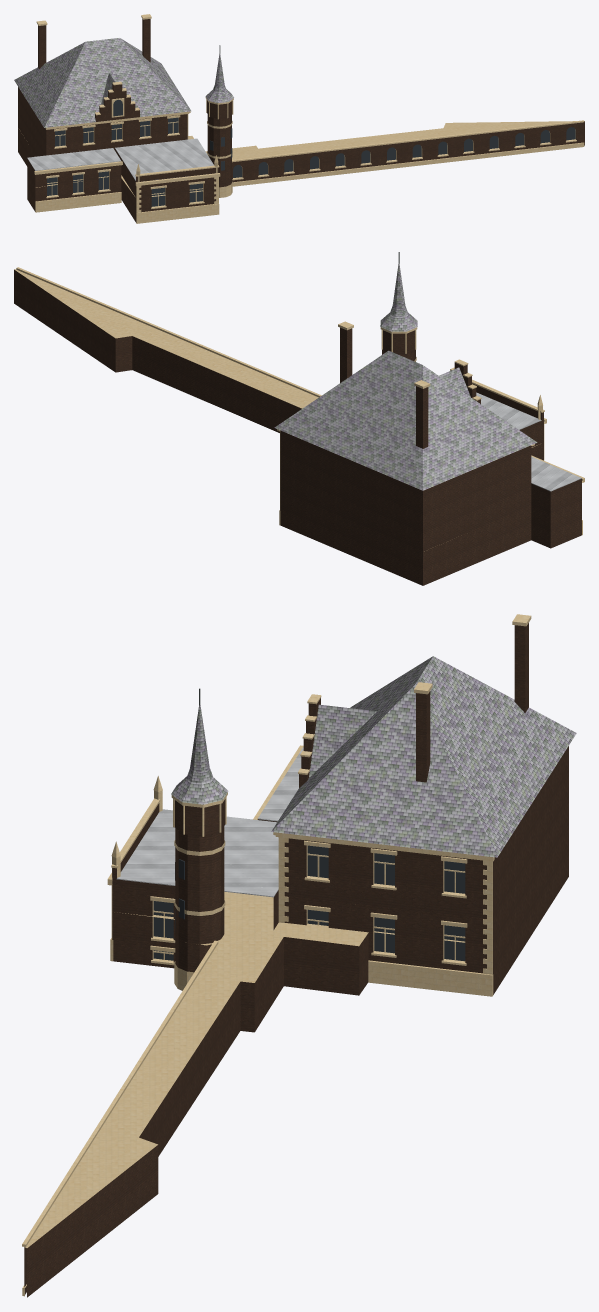
3 views of the same model, one above another, from view 1: azimuth 30°, elevation 25°; view 2: azimuth 150°, elevation 25°; view 3: azimuth 270°, elevation 25° (orthographic). The views are drawn at different scales.
Parts seen in each view (by area): view 1: bldg_232921425_landmark; view 2: bldg_232921425_landmark; view 3: bldg_232921425_landmark.
Part boxes in pixels (x1,y1,x2,y2): bldg_232921425_landmark: (14, 14, 584, 223); bldg_232921425_landmark: (14, 252, 584, 585); bldg_232921425_landmark: (22, 614, 576, 1297).
Bounding box in the file's own units: 61.23 × 17.9 × 30.54.
7 materials, 5 textured.
